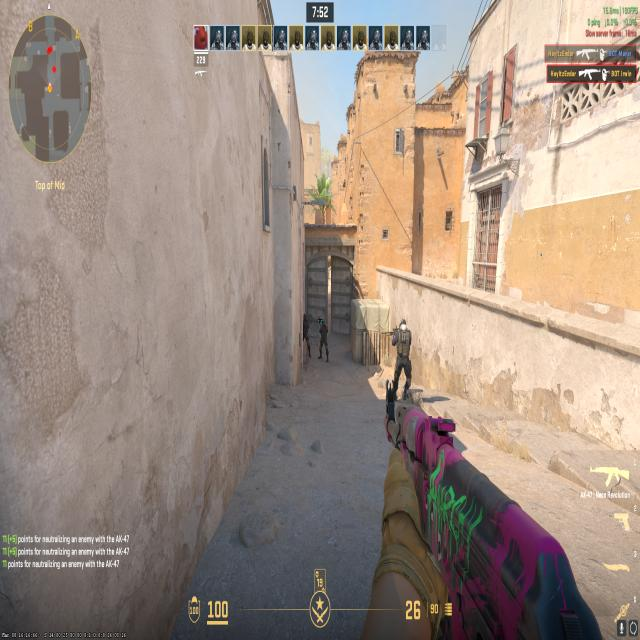ct: (388, 316, 414, 400), (300, 309, 312, 362), (317, 315, 329, 364)
